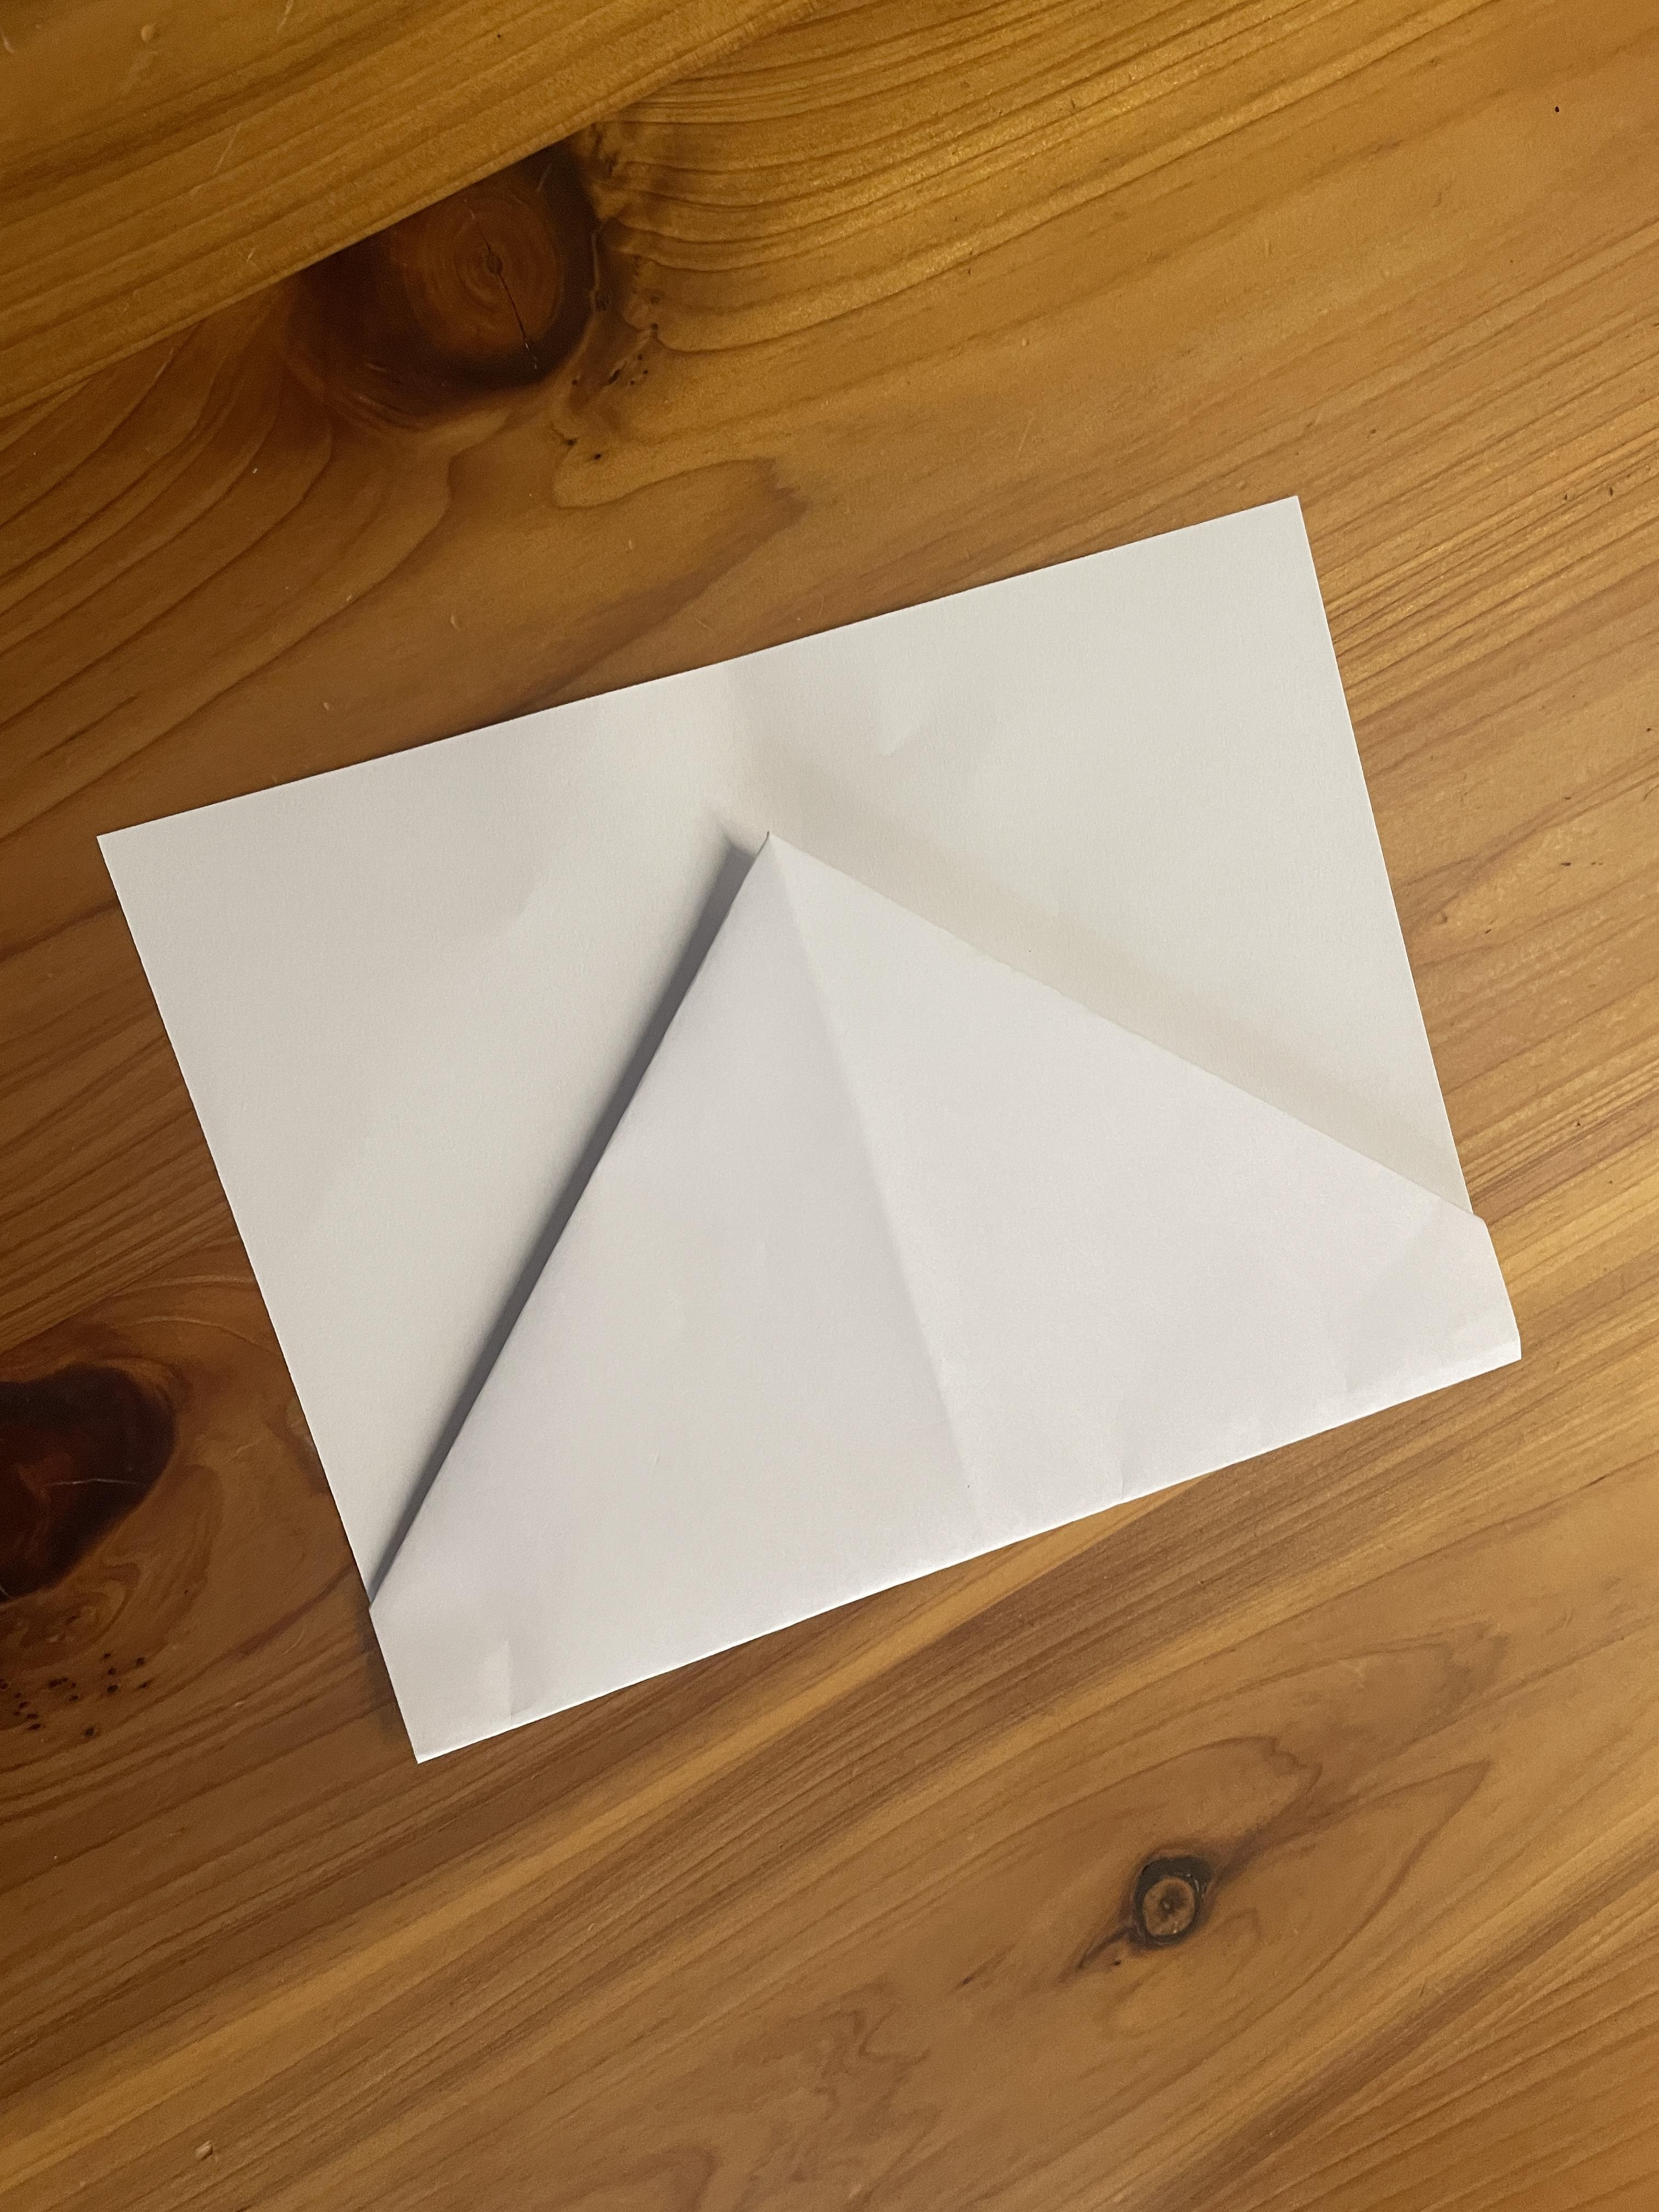shape_1: (28, 449, 1628, 1893)
